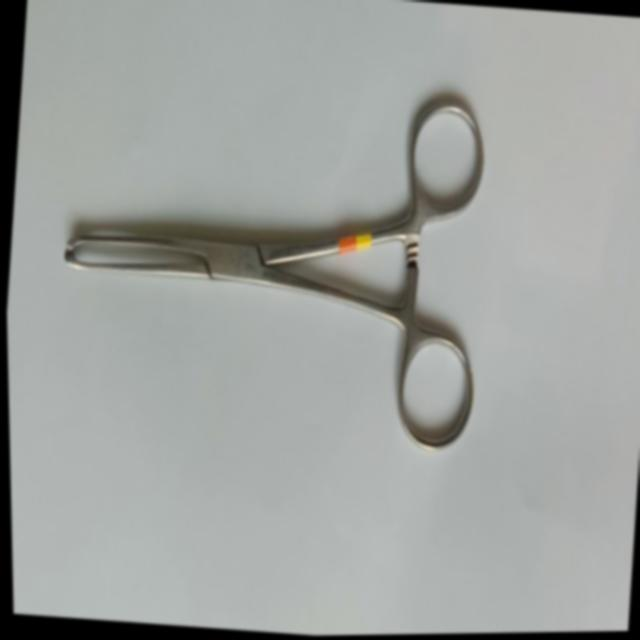AllisForcep: (45, 64, 498, 468)
